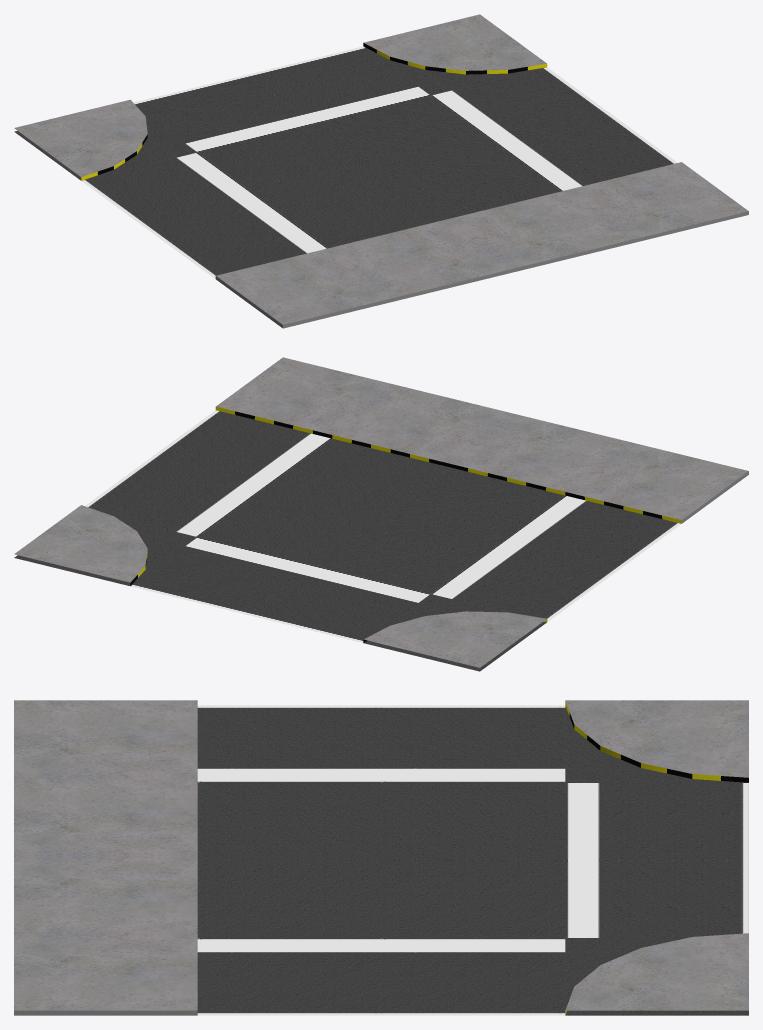
File: chunkw.FBX
3 renders of one model, top to bottom at view 1: azimuth 30°, elevation 25°; view 2: azimuth 150°, elevation 25°; view 3: azimuth 270°, elevation 25°, orthographic. The views are drawn at different scales.
Parts seen in each view (by area): view 1: 2LanesTIntersection; view 2: 2LanesTIntersection; view 3: 2LanesTIntersection.
Boxes of the visible parts, box(x1,y1,x2,y2) form: 2LanesTIntersection: box(14, 14, 748, 328); 2LanesTIntersection: box(14, 357, 748, 671); 2LanesTIntersection: box(14, 700, 748, 1015).
Bounding box in the file's own units: 1200 × 1200 × 9.
13 materials, 12 textured.
